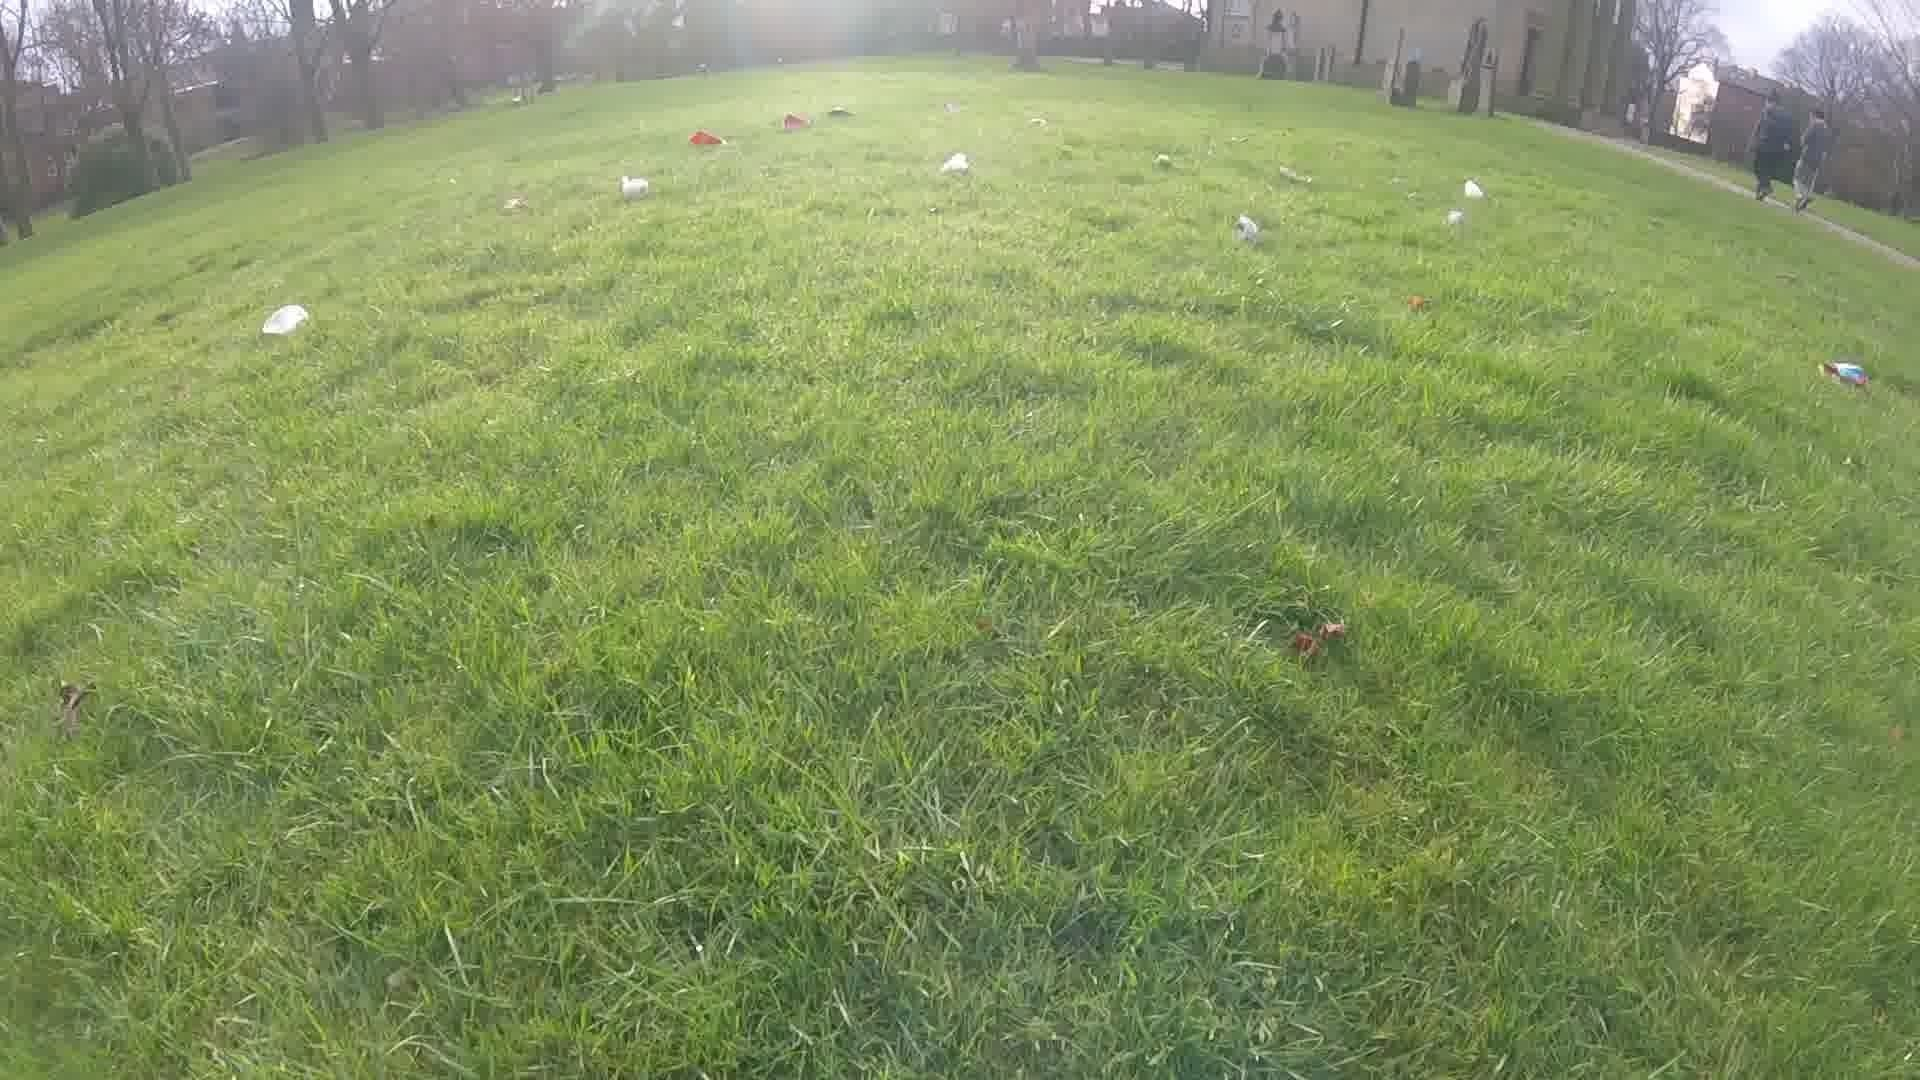litter: (1818, 357, 1870, 393), (256, 313, 313, 334), (1271, 165, 1319, 186), (1233, 222, 1261, 251), (616, 179, 649, 203), (690, 135, 733, 149), (777, 109, 810, 127), (820, 105, 858, 119), (1150, 153, 1176, 171), (1460, 182, 1484, 200), (506, 196, 530, 214), (948, 153, 967, 174), (932, 102, 956, 117), (1023, 119, 1048, 131), (1447, 214, 1470, 224)
